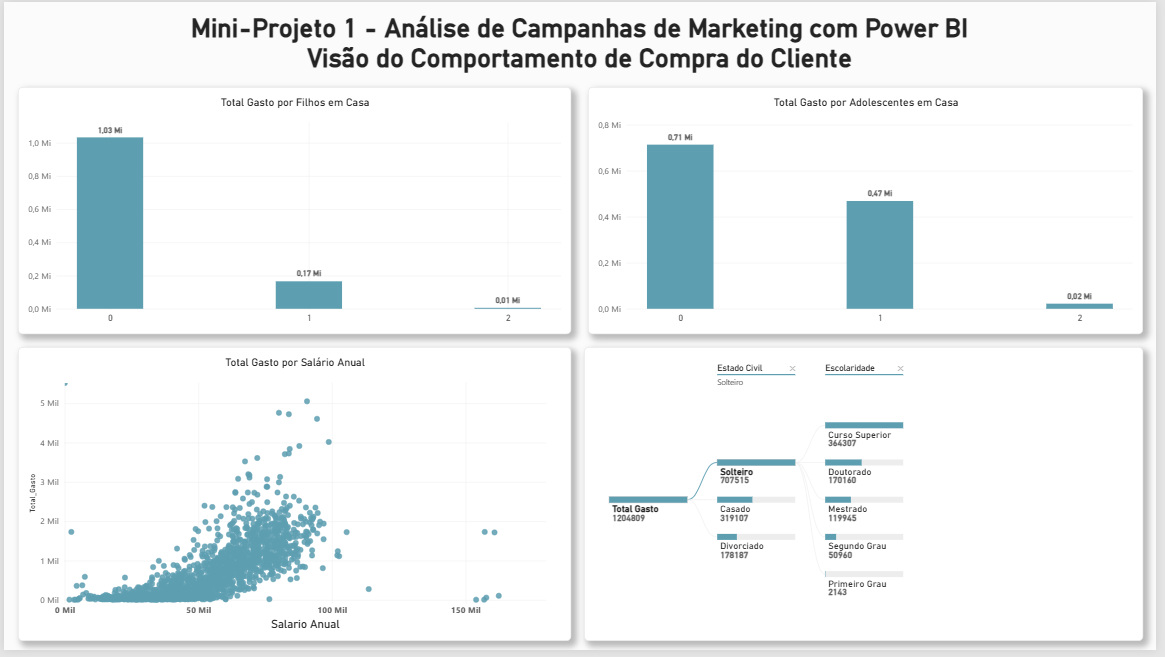

The page's visual inventory and layout, read from the dashboard file:
{"tool":"powerbi","page":{"name":"Visão do Comportamento","canvas":[1920,1080],"ordinal":1},"visuals":[{"type":"scatterChart","title":"Total Gasto por Salário Anual","fields":{"X":["dados_marketing.Salario Anual"],"Y":["dados_marketing.Total_Gasto"]},"box":[23.3,575,921.7,490],"z":0},{"type":"textbox","box":[276.7,0,1365,128.3],"z":1},{"type":"clusteredColumnChart","title":"Total Gasto por Filhos em Casa","fields":{"Category":["dados_marketing.Filhos em Casa"],"Y":["dados_marketing.Total_Gasto"]},"box":[23.3,141.7,921.7,411.7],"z":2},{"type":"columnChart","title":"Total Gasto por Adolescentes em Casa","fields":{"Category":["dados_marketing.Adolescentes em Casa"],"Y":["dados_marketing.Total_Gasto"]},"box":[973.3,141.7,925,411.7],"z":3},{"type":"decompositionTreeVisual","fields":{"Analyze":["dados_marketing.Total_Gasto"],"ExplainBy":["dados_marketing.Estado Civil","dados_marketing.Escolaridade"]},"box":[966,575,931.7,490],"z":4}]}

Visuals, with their boxes in screenshot pixels (x1, y1, x2, y2), scaled from the page's 1920x1080 canvas onto the 1165x657 screenshot:
"Total Gasto por Salário Anual" scatterChart: crop(14, 350, 573, 648)
textbox: crop(168, 0, 996, 78)
"Total Gasto por Filhos em Casa" clusteredColumnChart: crop(14, 86, 573, 337)
"Total Gasto por Adolescentes em Casa" columnChart: crop(591, 86, 1152, 337)
decompositionTreeVisual - dados_marketing.Total_Gasto x dados_marketing.Estado Civil: crop(586, 350, 1151, 648)
